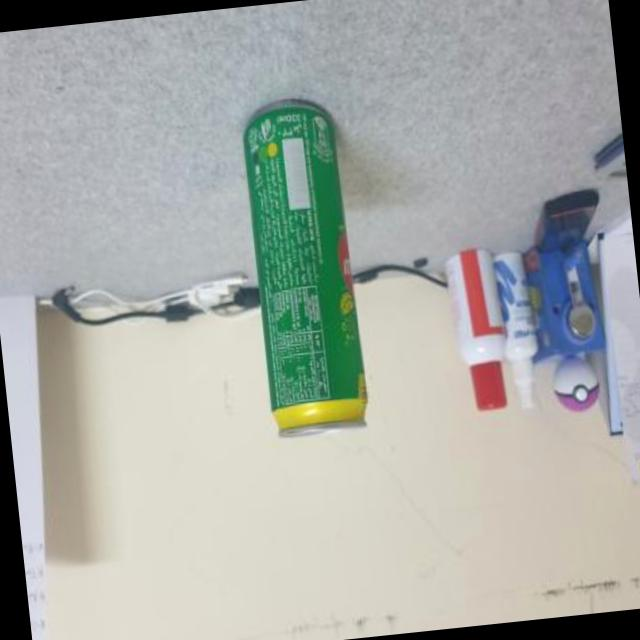metal: (244, 102, 367, 437)
